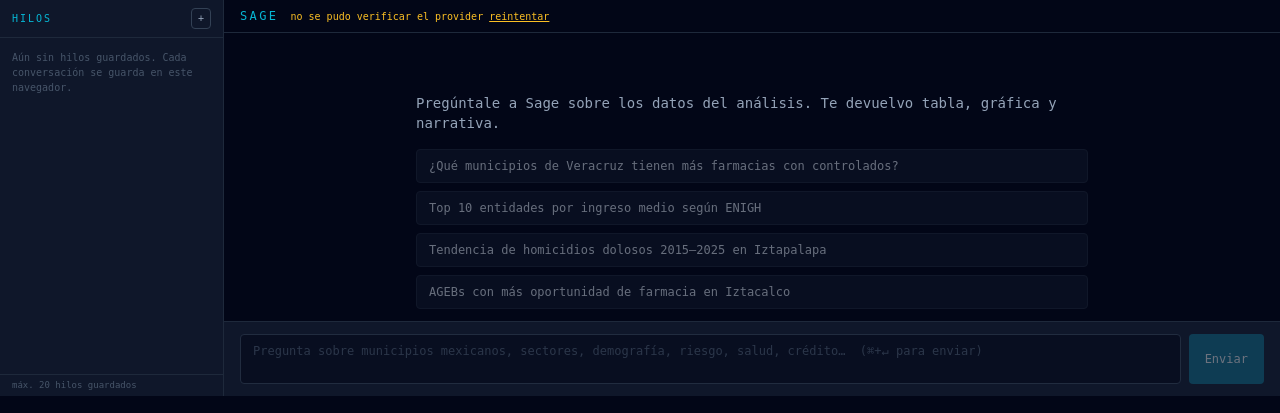
Test case: SageMode provider gate (#187) › shows a failed health check with a retry
Check: the 3rd button is disabled, box [416,149,1088,183]
Click the button "reintentar".
click(519, 16)  # box [489,8,549,24]
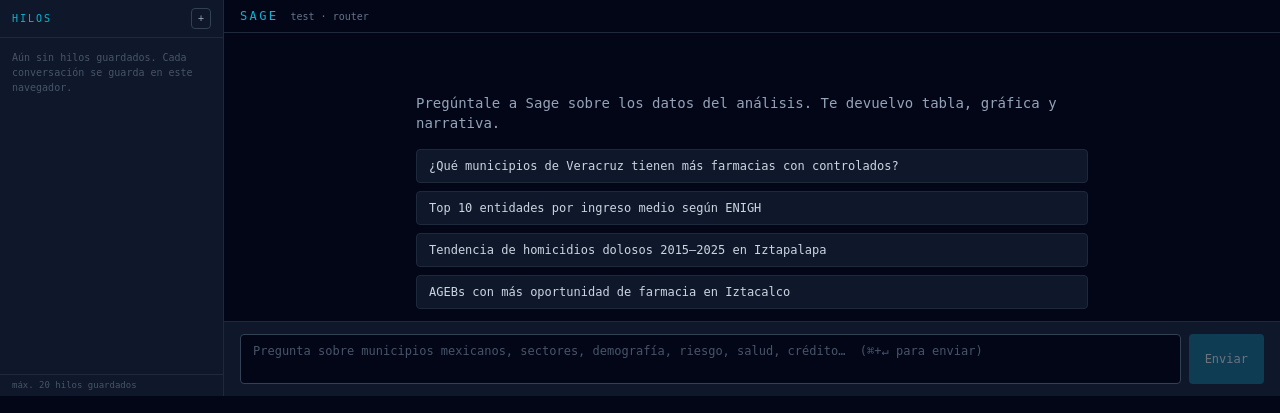
Check: the text "no se pudo verificar" is gone
Check: the 2nd button is enabled, box [416,149,1088,183]
